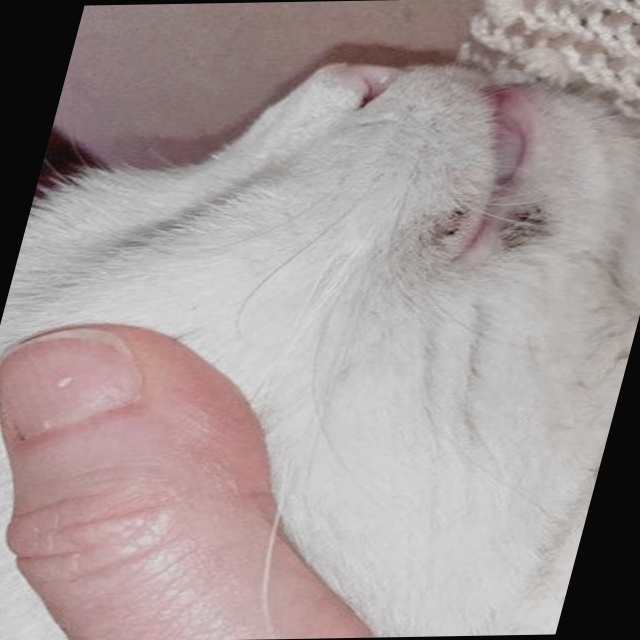acne: (394, 205, 484, 258), (485, 203, 566, 250)
